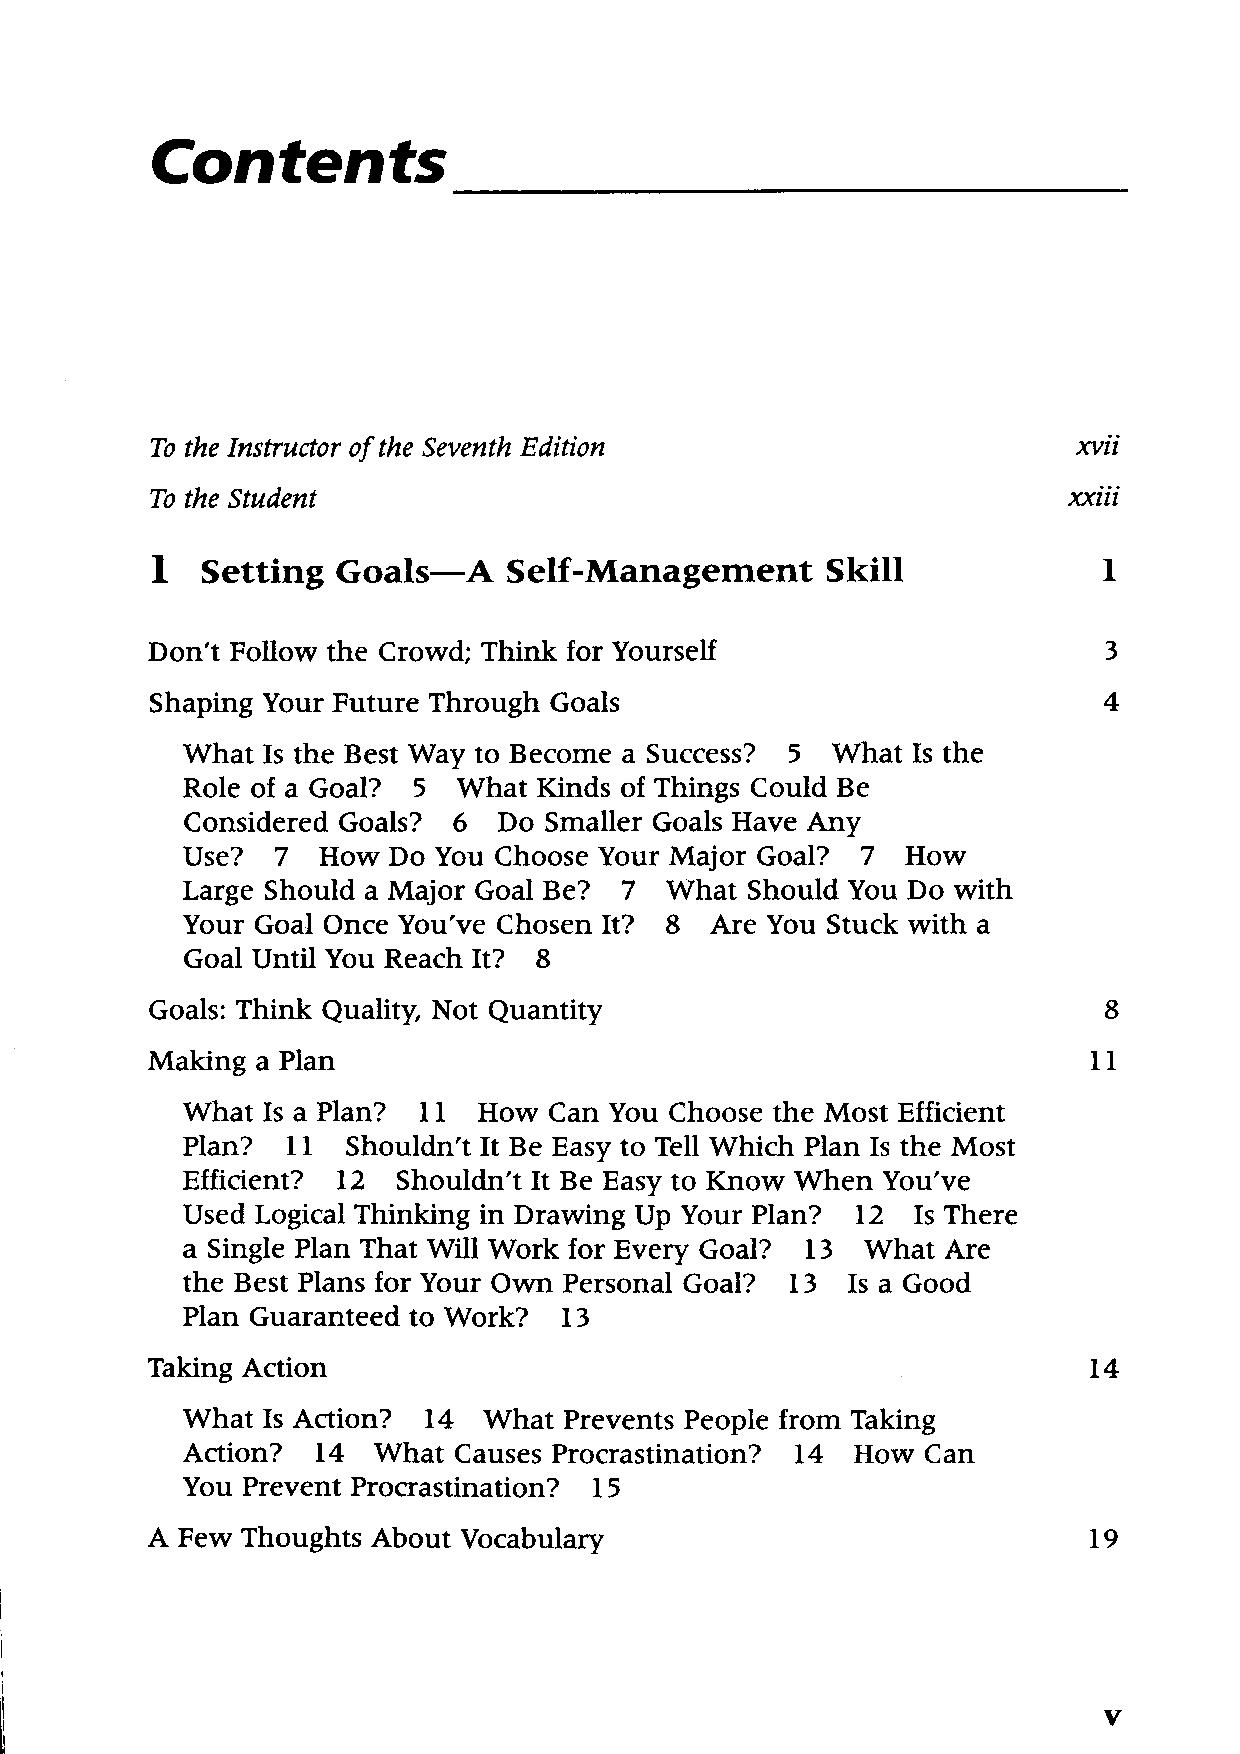TOC_chapter: (145, 546, 909, 586), (177, 1197, 823, 1229), (174, 735, 758, 768), (140, 636, 718, 668), (344, 1133, 1017, 1159), (146, 425, 605, 464), (146, 684, 627, 719), (183, 1267, 758, 1295), (181, 1235, 773, 1261), (476, 1096, 1006, 1125), (392, 1166, 974, 1192), (482, 1401, 939, 1433), (144, 993, 609, 1024), (144, 1525, 604, 1555), (315, 843, 829, 868), (452, 773, 874, 803), (366, 1437, 764, 1468), (183, 876, 595, 905), (494, 807, 866, 837), (177, 911, 641, 935), (177, 1471, 561, 1499), (663, 874, 1012, 905), (181, 1300, 530, 1330), (178, 942, 507, 972), (709, 910, 998, 938), (178, 807, 423, 835), (142, 1041, 340, 1075), (183, 1094, 389, 1125), (180, 1402, 392, 1432), (823, 735, 985, 772), (180, 772, 384, 800), (146, 482, 319, 513), (141, 1353, 330, 1381), (843, 1267, 978, 1298), (183, 1164, 306, 1192), (854, 1439, 974, 1467), (862, 1236, 993, 1261), (909, 1197, 1019, 1227), (184, 1437, 282, 1461), (178, 1130, 251, 1158), (900, 841, 968, 870), (178, 841, 246, 866)
TOC_pagenumber: (1090, 1346, 1126, 1393), (1074, 427, 1119, 458), (1066, 484, 1123, 509), (420, 1405, 459, 1432), (1088, 1519, 1117, 1555), (788, 1440, 827, 1465), (309, 1439, 352, 1461), (413, 1099, 451, 1125), (556, 1304, 593, 1330), (803, 1231, 836, 1259), (1103, 993, 1129, 1028), (280, 1130, 315, 1155), (855, 1197, 884, 1227), (1088, 1043, 1117, 1074), (590, 1474, 623, 1500), (1098, 554, 1121, 589), (529, 943, 558, 970), (442, 807, 472, 832), (334, 1164, 366, 1188), (786, 1270, 820, 1292), (784, 738, 809, 765), (1099, 684, 1122, 714), (409, 774, 436, 798), (1098, 633, 1121, 662), (268, 841, 293, 867), (854, 841, 878, 866), (617, 878, 637, 902), (663, 911, 680, 935)
chapter: (148, 136, 451, 188)
content_pagenumber: (1096, 1706, 1126, 1734)
